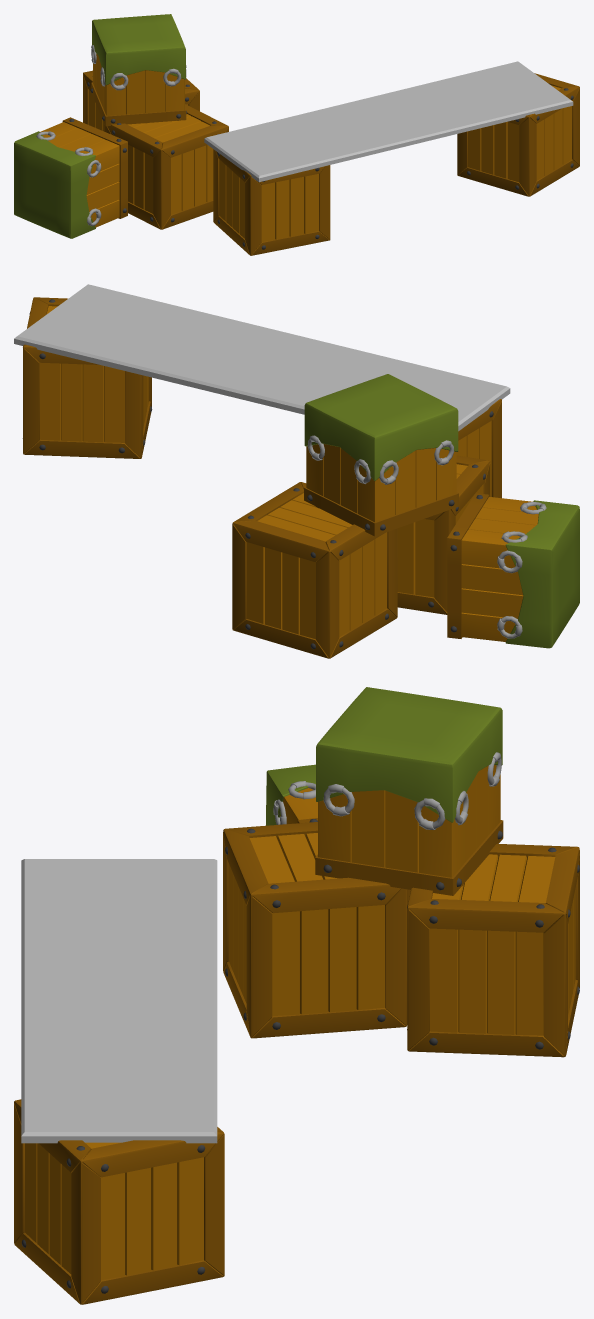
File: upackingTable_v2.fbx
3 views of the same model, one above another, from view 1: azimuth 30°, elevation 25°; view 2: azimuth 150°, elevation 25°; view 3: azimuth 270°, elevation 25° (orthographic). The views are drawn at different scales.
Visible parts, largest first — view 1: CrateStack, Table, Crate.001, Crate; view 2: CrateStack, Table, Crate, Crate.001; view 3: CrateStack, Table, Crate.
Part boxes in pixels (box(x1,y1,x2,y2)): CrateStack: box(14, 14, 228, 238); Table: box(204, 61, 573, 182); Crate.001: box(213, 149, 330, 255); Crate: box(457, 73, 579, 196); CrateStack: box(232, 374, 579, 658); Table: box(14, 284, 510, 431); Crate: box(22, 297, 152, 458); Crate.001: box(456, 399, 501, 498); CrateStack: box(223, 687, 579, 1057); Table: box(21, 859, 217, 1143); Crate: box(14, 1099, 224, 1304).
Bounding box in the file's own units: 2306 × 711 × 1322.
